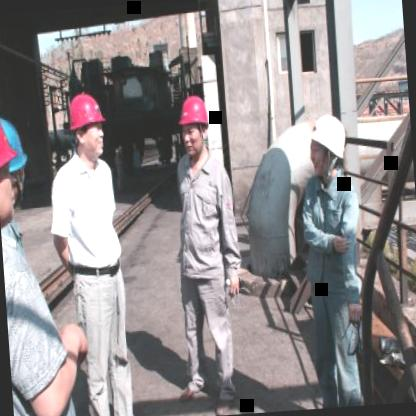helmet: (64, 84, 111, 166), (306, 110, 350, 186), (0, 109, 32, 209), (0, 92, 22, 231), (174, 88, 214, 161)
